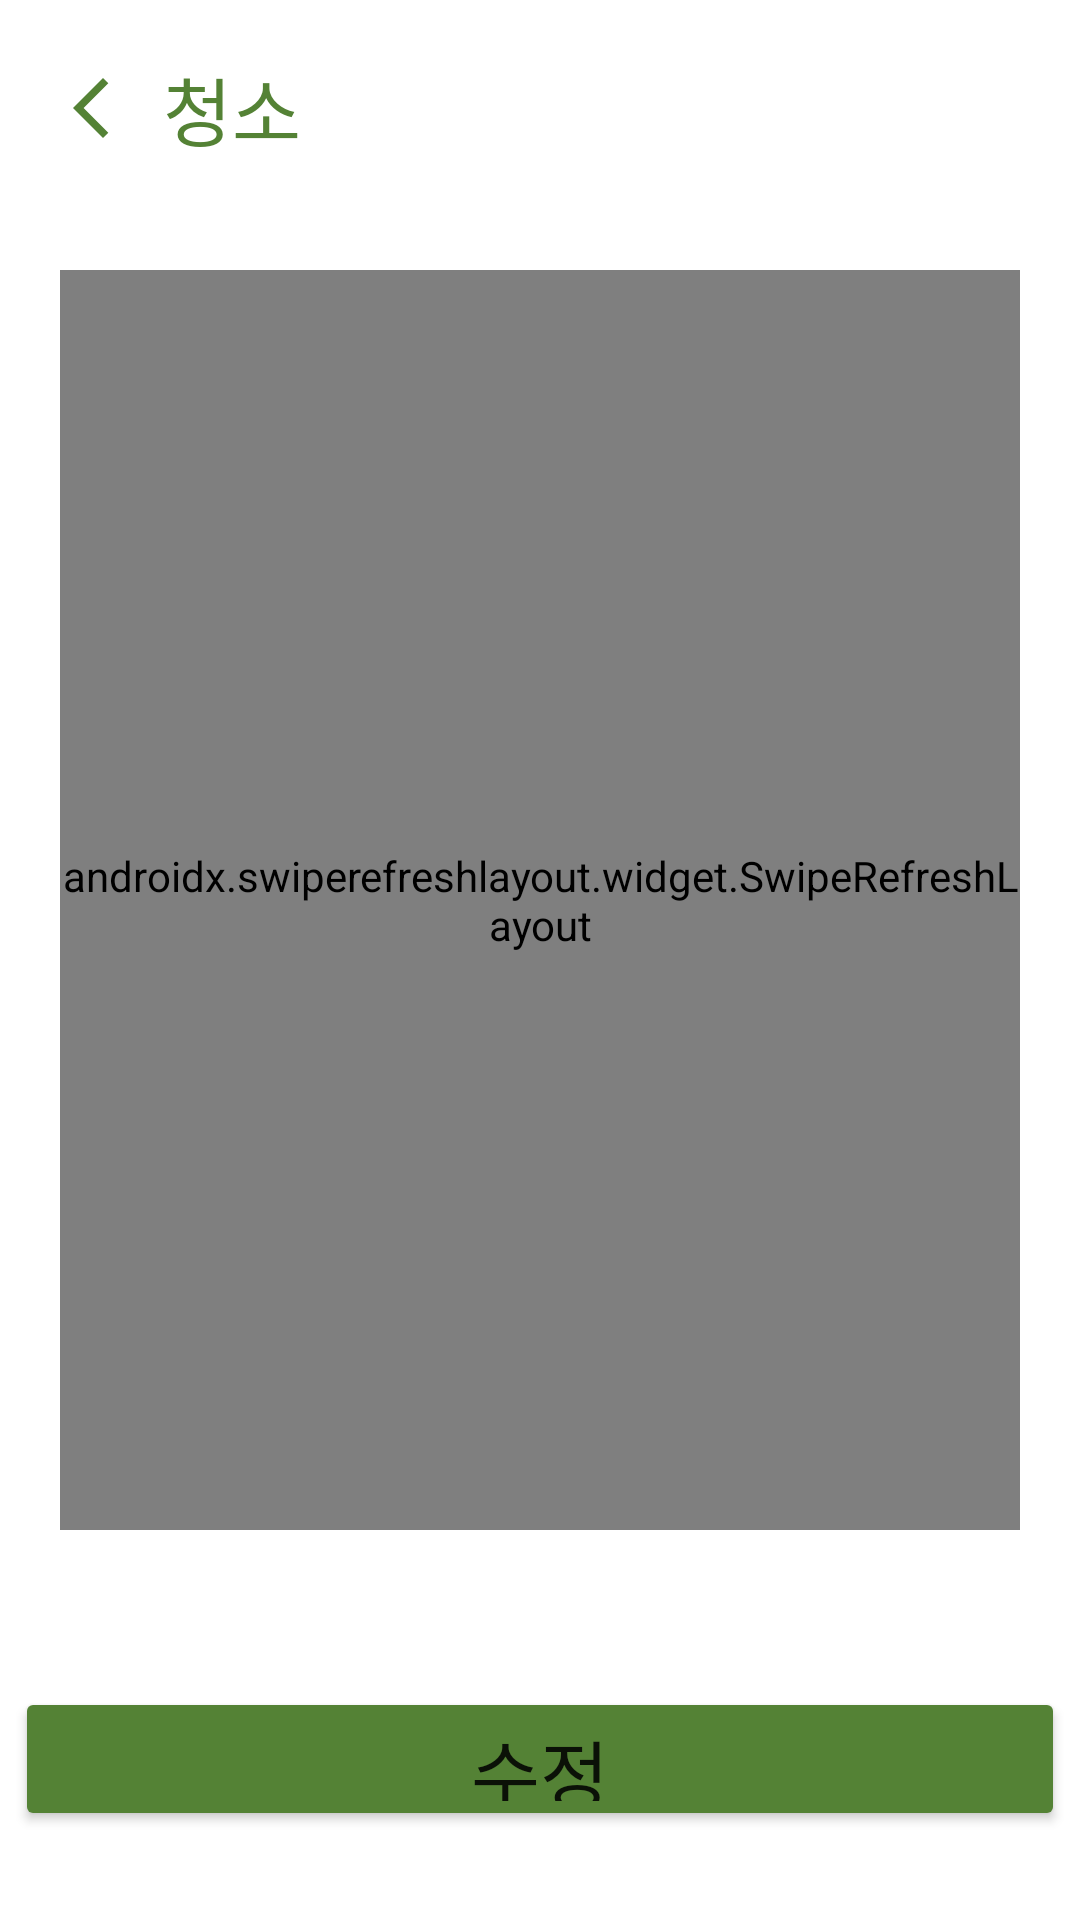

Icon click points for this 1080 × 1920 phone screenshot, format [x,y]:
back: [90,108]
